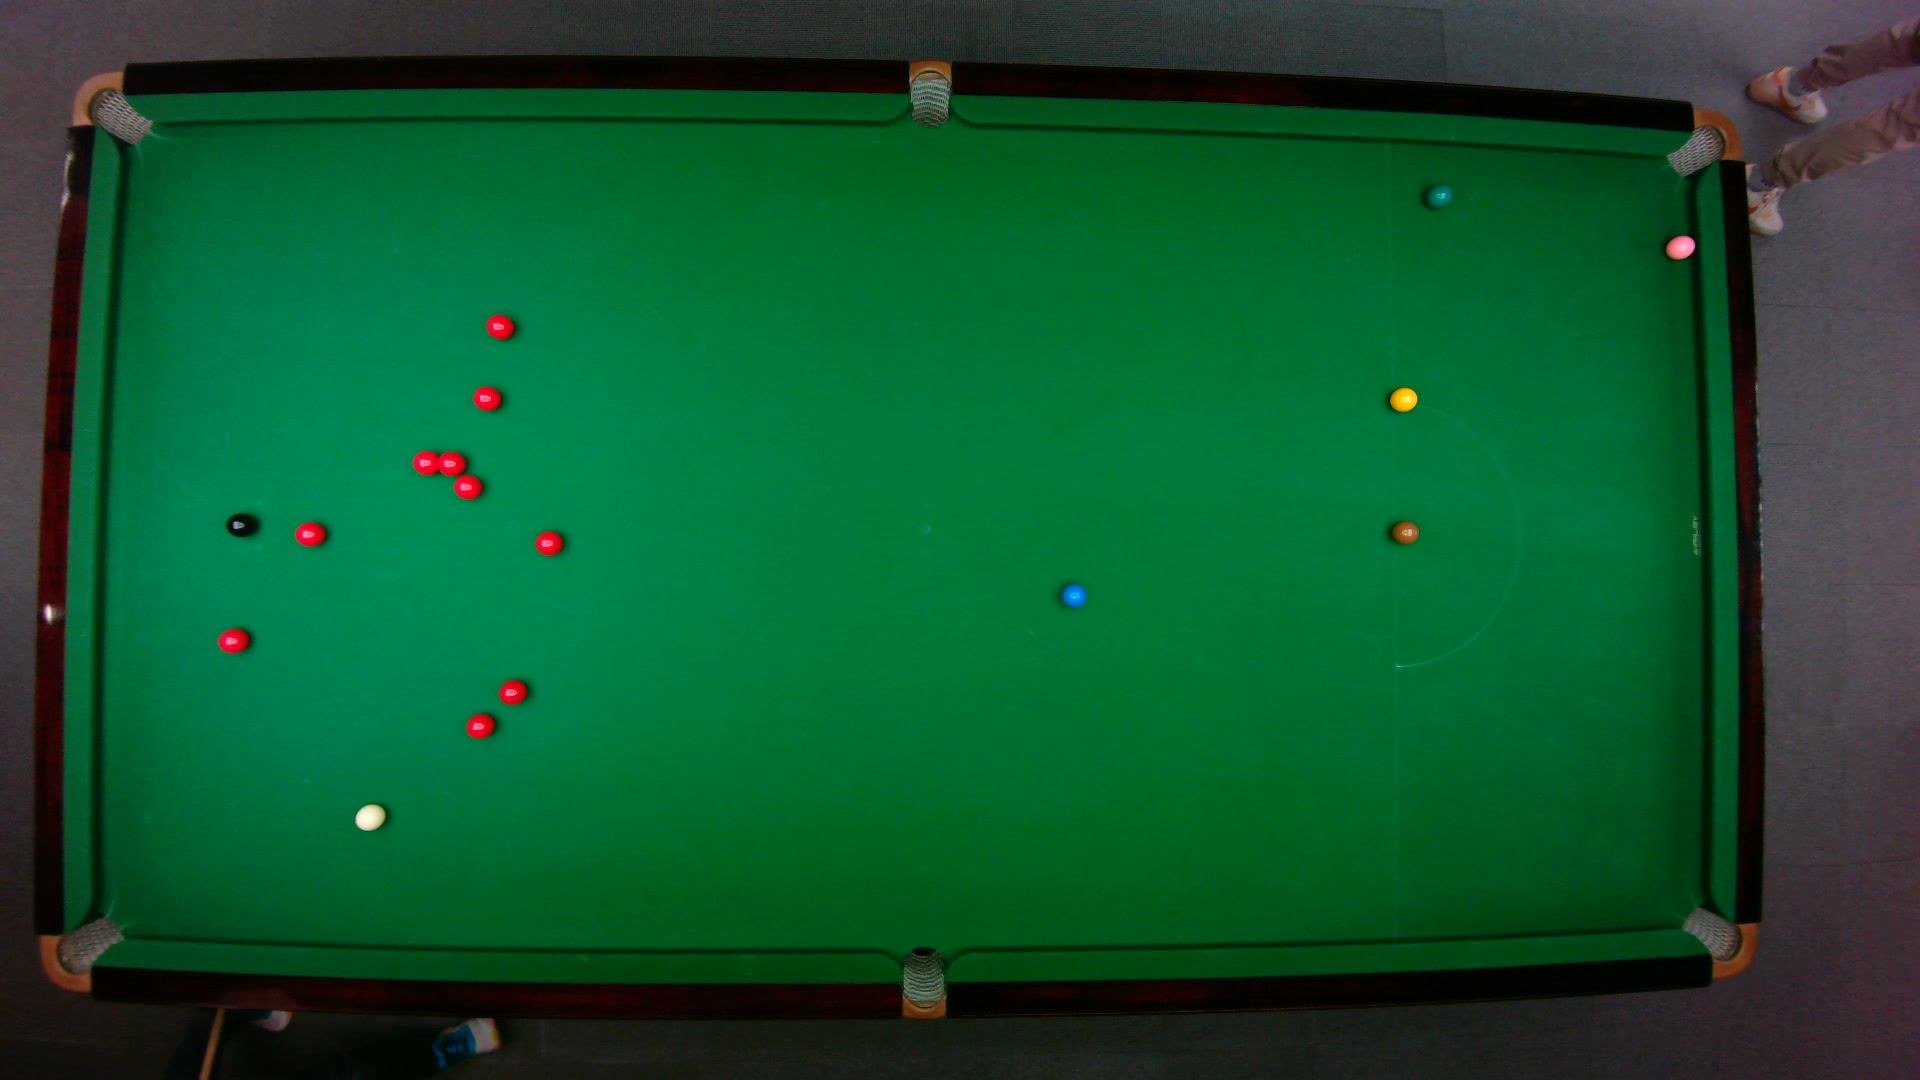bag: (38, 914, 125, 993), (69, 69, 152, 145), (1677, 905, 1756, 978), (1663, 107, 1741, 177), (901, 944, 944, 1021), (909, 57, 949, 128)
black: (223, 512, 256, 537)
blue: (1059, 582, 1087, 608)
brown: (1390, 520, 1419, 545)
green: (1423, 182, 1453, 208)
pink: (1663, 232, 1697, 260)
red: (215, 625, 251, 653), (463, 709, 496, 738), (496, 676, 527, 705), (293, 520, 326, 547), (471, 384, 502, 411), (533, 529, 564, 556), (483, 313, 516, 339), (451, 472, 483, 498), (410, 448, 442, 475), (436, 448, 467, 475)
white: (352, 800, 386, 831)
yellow: (1389, 385, 1418, 411)
zone: (1390, 401, 1520, 667)
